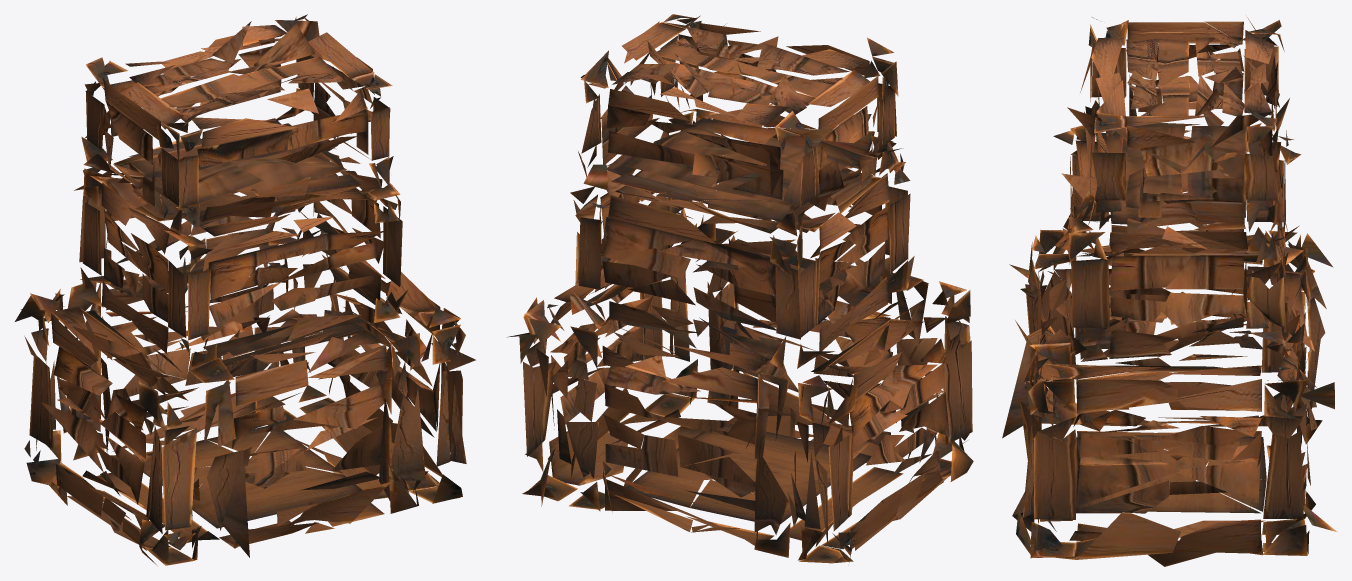
Rendered from pila_casse.glb.
3 views of the same model, side by side, from view 1: azimuth 30°, elevation 25°; view 2: azimuth 150°, elevation 25°; view 3: azimuth 270°, elevation 25° (orthographic). The views are drawn at different scales.
Visible parts, largest first — view 1: Mesh_0; view 2: Mesh_0; view 3: Mesh_0.
Part boxes in pixels (box(x1,y1,x2,y2)): Mesh_0: box(15, 14, 475, 565); Mesh_0: box(507, 14, 973, 563); Mesh_0: box(1002, 17, 1337, 566).
Size of the model in its own units: 1.62 by 2.09 by 1.39.
1 material, 1 textured.
